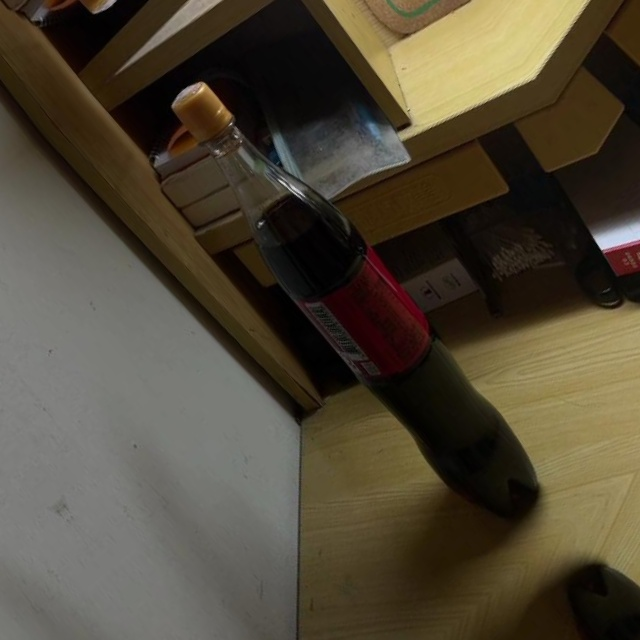Coca-Cola: (142, 63, 563, 538)
